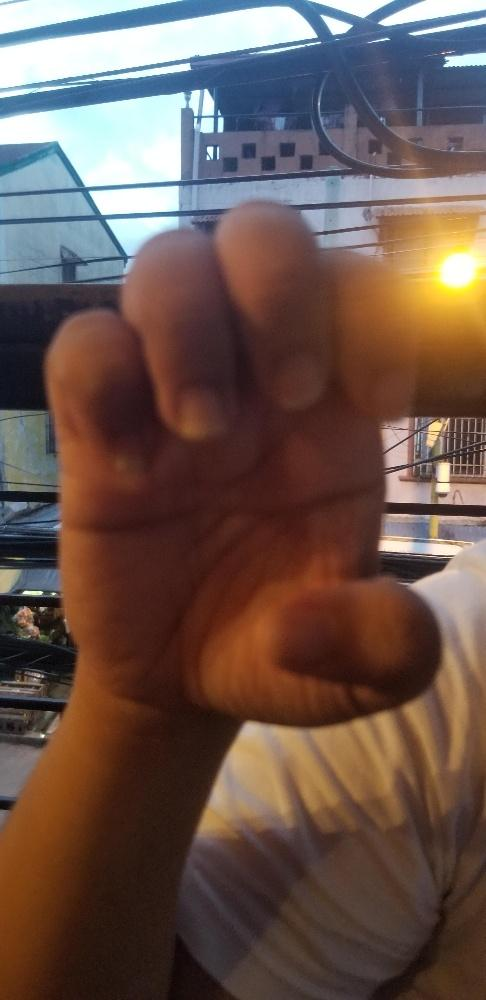e: (41, 199, 444, 733)
